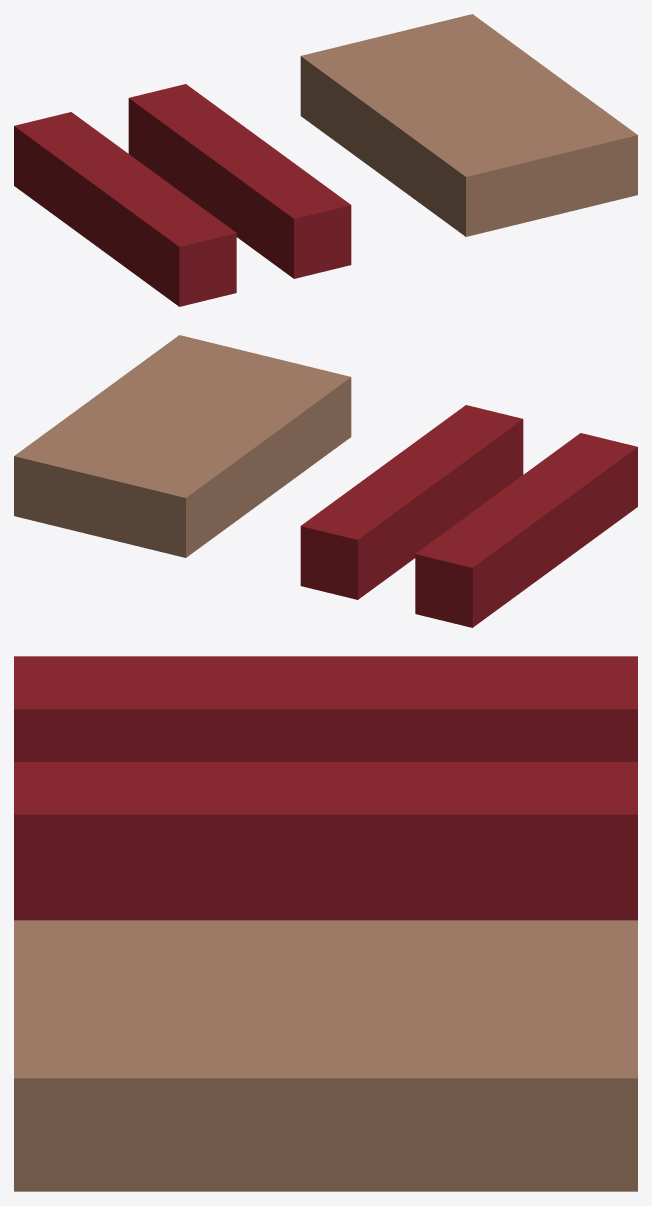
Rendered from 3D Voxel Park-88.obj.
3 views of the same model, one above another, from view 1: azimuth 30°, elevation 25°; view 2: azimuth 150°, elevation 25°; view 3: azimuth 270°, elevation 25° (orthographic). The views are drawn at different scales.
Bounding box in the file's own units: 0.8 × 0.1 × 0.5.
Materials: 1 (1 with a texture image).
